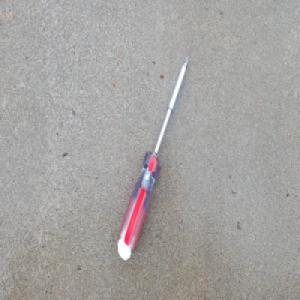Screwdriver: (116, 53, 189, 262)
